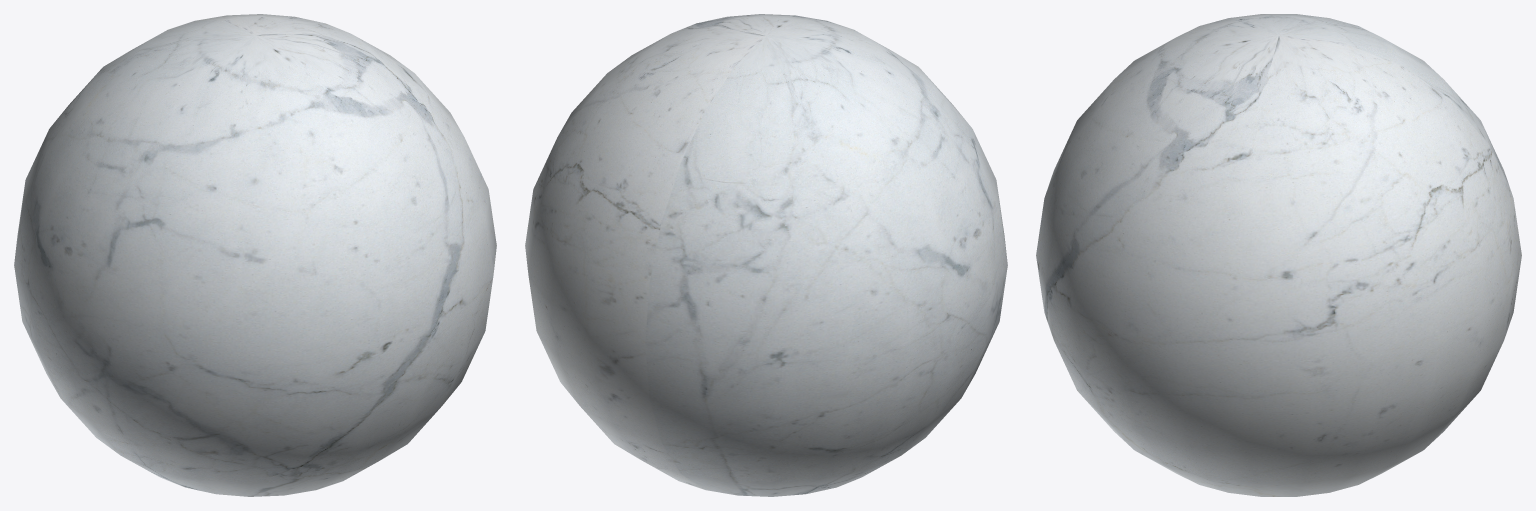
The model's file is Marble.obj.
3 views of the same model, side by side, from view 1: azimuth 30°, elevation 25°; view 2: azimuth 150°, elevation 25°; view 3: azimuth 270°, elevation 25° (orthographic).
Parts seen in each view (by area): view 1: Mesh; view 2: Mesh; view 3: Mesh.
Boxes of the visible parts, bbox=[...] form: Mesh: bbox=[14, 14, 496, 496]; Mesh: bbox=[525, 14, 1007, 496]; Mesh: bbox=[1036, 14, 1521, 496].
Bounding box in the file's own units: 1.98 × 2 × 2.
